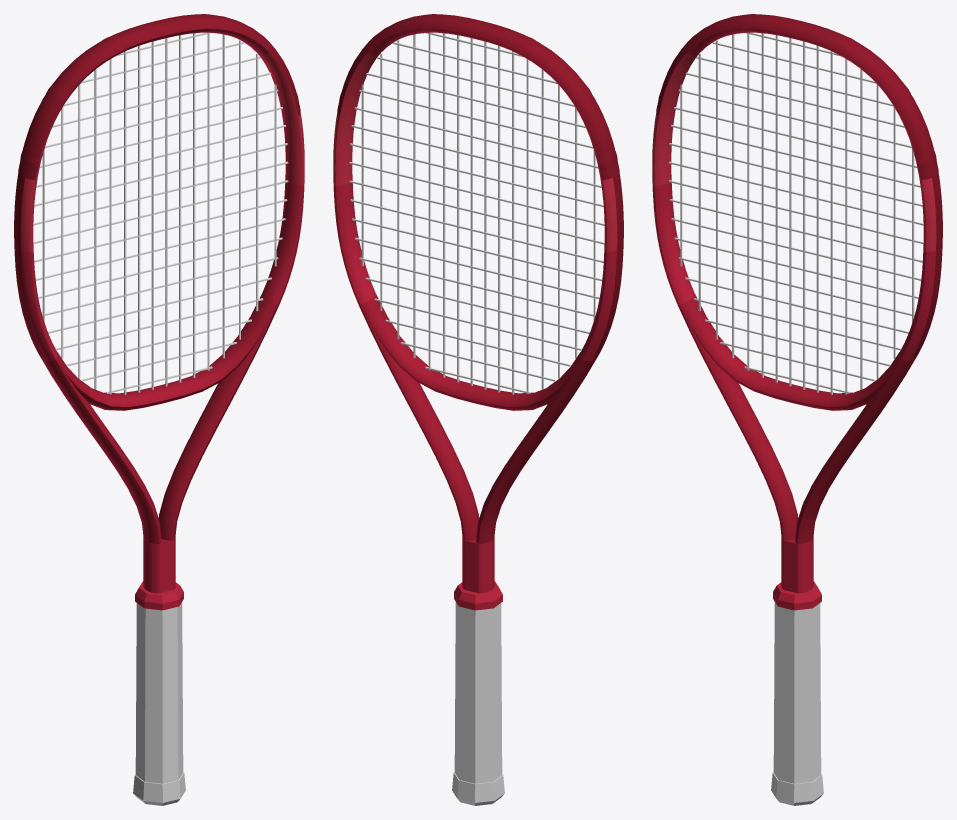
Rendered from yonex-vcore-98-tour-2026.glb.
3 renders of one model, left to right at view 1: azimuth 30°, elevation 25°; view 2: azimuth 150°, elevation 25°; view 3: azimuth 330°, elevation 25°, orthographic.
Parts seen in each view (by area): view 1: frame, strings_mains, strings_crosses, grip, bumper, grommets, butt_cap, collar; view 2: frame, strings_mains, strings_crosses, grip, bumper, grommets, butt_cap, collar; view 3: frame, strings_mains, strings_crosses, grip, bumper, grommets, butt_cap, collar.
Boxes of the visible parts, bbox=[...] form: frame: bbox=[14, 29, 304, 593]; strings_mains: bbox=[42, 32, 276, 394]; strings_crosses: bbox=[33, 32, 288, 393]; grip: bbox=[135, 602, 183, 783]; bumper: bbox=[18, 14, 300, 179]; grommets: bbox=[14, 173, 44, 358]; butt_cap: bbox=[133, 772, 185, 805]; collar: bbox=[135, 581, 183, 610]; frame: bbox=[333, 29, 623, 593]; strings_mains: bbox=[361, 33, 595, 394]; strings_crosses: bbox=[349, 32, 604, 394]; grip: bbox=[454, 602, 502, 783]; bumper: bbox=[337, 14, 619, 179]; grommets: bbox=[593, 173, 623, 358]; butt_cap: bbox=[452, 772, 504, 805]; collar: bbox=[454, 581, 502, 610]; frame: bbox=[652, 29, 942, 593]; strings_mains: bbox=[680, 32, 914, 394]; strings_crosses: bbox=[668, 32, 923, 393]; grip: bbox=[773, 602, 821, 783]; bumper: bbox=[656, 14, 938, 179]; grommets: bbox=[912, 173, 942, 358]; butt_cap: bbox=[771, 772, 823, 805]; collar: bbox=[773, 581, 821, 610].
Size of the model in its own units: 0.2652 by 0.6861 by 0.0396.
